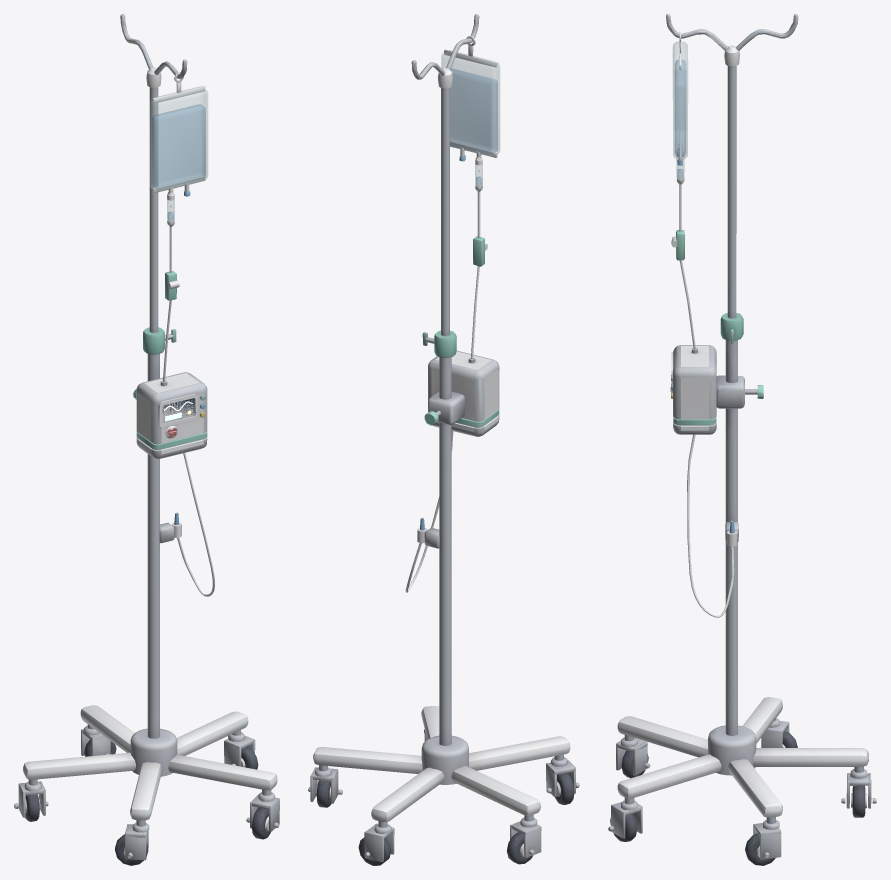
Rendered from medical-iv-stand.glb.
3 renders of one model, left to right at view 1: azimuth 30°, elevation 25°; view 2: azimuth 150°, elevation 25°; view 3: azimuth 270°, elevation 25°, orthographic. The views are drawn at different scales.
Parts seen in each view (by area): view 1: iv-stand_body, iv-stand_bag_glass, iv-stand_bag_fluid; view 2: iv-stand_body, iv-stand_bag_glass, iv-stand_bag_fluid; view 3: iv-stand_body, iv-stand_bag_glass, iv-stand_bag_fluid.
Part boxes in pixels (x1,y1,x2,y2): iv-stand_body: (14, 14, 279, 865); iv-stand_bag_glass: (150, 86, 207, 225); iv-stand_bag_fluid: (152, 104, 205, 221); iv-stand_body: (308, 14, 579, 865); iv-stand_bag_glass: (441, 50, 499, 190); iv-stand_bag_fluid: (450, 68, 497, 186); iv-stand_body: (608, 14, 876, 865); iv-stand_bag_glass: (673, 42, 687, 183); iv-stand_bag_fluid: (675, 60, 685, 178).
Size of the model in its own units: 0.5965 by 1.9 by 0.5795.
Materials: 6 (1 with a texture image).
